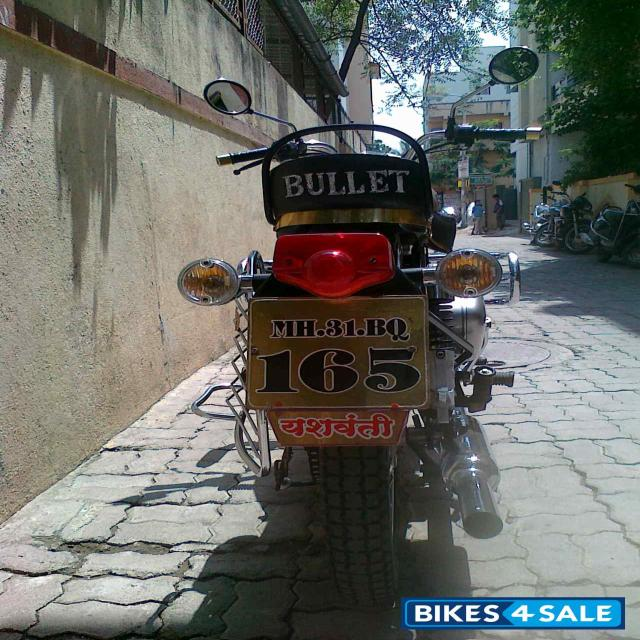license_plate: (244, 294, 430, 410)
